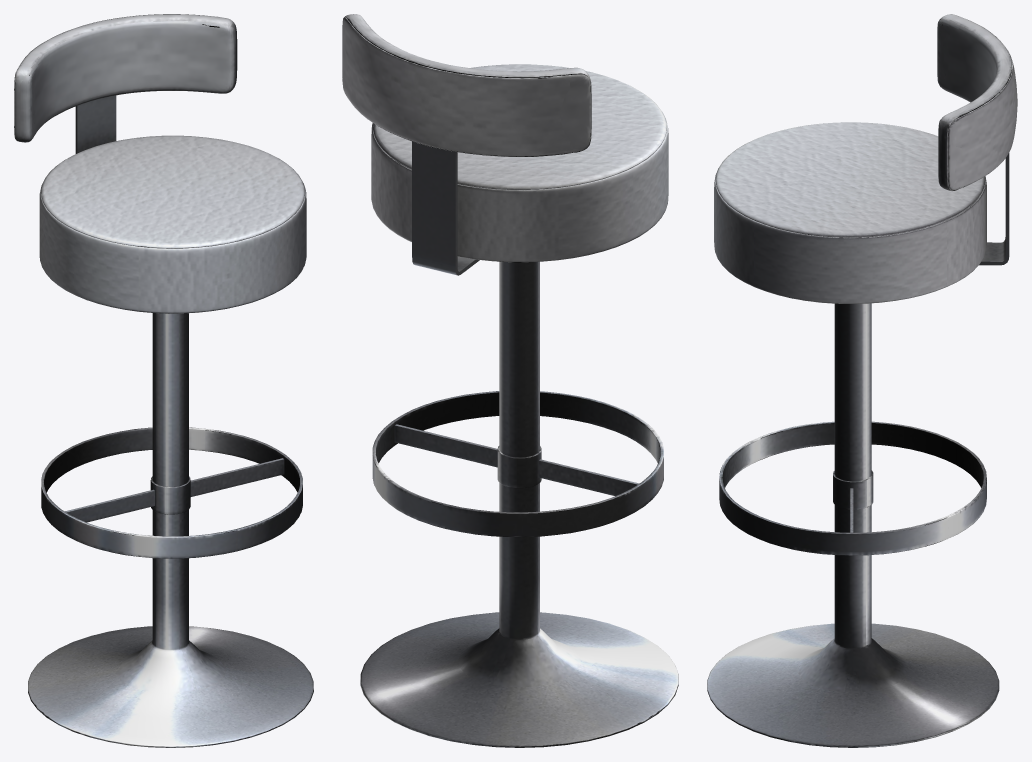
File: parona_white_chrome_plated.glb
3 renders of one model, left to right at view 1: azimuth 30°, elevation 25°; view 2: azimuth 150°, elevation 25°; view 3: azimuth 270°, elevation 25°, orthographic. The views are drawn at different scales.
Parts seen in each view (by area): view 1: parona-white; view 2: parona-white; view 3: parona-white.
Boxes of the visible parts, x1=… form: parona-white: x1=14, y1=14, x2=313, y2=747; parona-white: x1=342, y1=14, x2=678, y2=747; parona-white: x1=707, y1=14, x2=1017, y2=747.
Bounding box in the file's own units: 0.4047 × 0.95 × 0.4293.
Materials: 1 (1 with a texture image).
